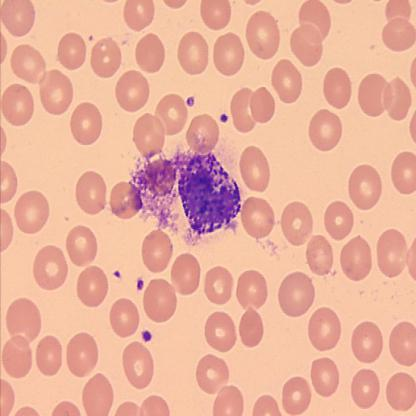Basophil: (175, 147, 245, 239)
